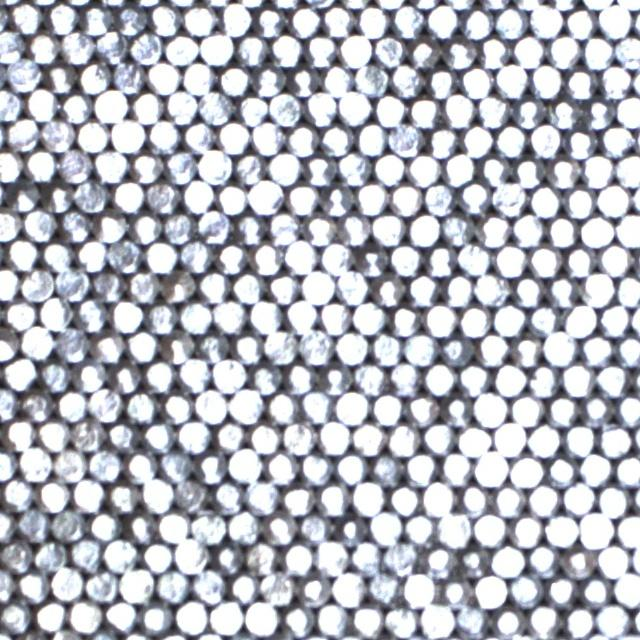tool: (437, 510, 472, 546), (55, 326, 90, 362), (212, 356, 247, 392), (491, 420, 526, 456), (509, 453, 544, 488), (316, 481, 351, 516), (229, 387, 264, 422), (402, 572, 437, 607), (419, 602, 454, 637), (191, 508, 226, 543), (74, 177, 109, 212), (316, 419, 351, 454), (66, 598, 101, 633), (473, 451, 508, 486), (248, 178, 282, 214), (544, 512, 578, 547), (2, 355, 36, 390), (228, 447, 262, 482), (456, 422, 490, 457), (180, 178, 215, 212), (280, 482, 315, 516), (51, 507, 86, 541), (354, 180, 388, 215), (403, 332, 438, 366), (456, 482, 491, 516), (596, 483, 630, 518), (52, 447, 87, 481), (264, 328, 298, 363), (561, 480, 595, 515), (0, 476, 35, 510), (109, 297, 143, 332), (491, 482, 525, 517), (174, 478, 209, 512), (174, 598, 208, 633), (164, 148, 198, 183), (492, 242, 526, 277), (420, 481, 454, 516), (36, 477, 70, 512), (439, 332, 474, 366), (353, 120, 388, 154), (597, 2, 631, 37), (140, 476, 174, 511), (198, 149, 232, 184), (457, 180, 491, 215), (110, 117, 144, 152), (92, 148, 127, 182), (24, 86, 59, 120), (244, 478, 278, 513), (335, 389, 369, 424), (144, 179, 178, 214), (161, 268, 195, 303), (162, 329, 196, 364), (352, 359, 386, 394), (578, 512, 612, 547), (299, 329, 333, 364), (472, 391, 507, 425), (526, 422, 560, 457), (17, 446, 52, 480), (384, 540, 418, 575), (526, 362, 560, 397), (20, 324, 54, 359), (472, 572, 507, 606), (73, 296, 107, 331), (177, 356, 210, 392), (88, 386, 122, 420), (595, 362, 629, 396), (458, 303, 492, 337), (493, 362, 527, 396), (492, 180, 526, 214), (140, 538, 174, 572), (267, 150, 301, 184), (211, 480, 245, 514), (130, 148, 164, 182), (193, 388, 227, 422), (268, 32, 302, 66), (561, 362, 595, 396), (472, 512, 506, 546), (406, 152, 440, 186), (370, 211, 404, 245), (354, 4, 388, 38), (493, 302, 527, 336), (111, 178, 145, 212), (388, 181, 422, 215), (595, 602, 629, 636), (338, 32, 372, 66), (88, 447, 122, 481), (352, 300, 386, 334), (563, 302, 597, 336), (384, 602, 418, 636), (543, 330, 577, 364), (267, 210, 301, 244), (2, 296, 36, 330), (352, 480, 386, 514), (284, 298, 318, 332), (227, 509, 261, 543), (544, 573, 578, 607), (209, 599, 243, 633), (331, 571, 365, 605), (284, 182, 318, 216), (38, 295, 72, 329), (216, 119, 250, 153), (334, 330, 368, 364), (77, 59, 111, 93), (334, 450, 368, 484), (26, 30, 60, 64), (441, 271, 475, 305), (315, 600, 349, 634), (33, 538, 67, 572), (139, 599, 173, 633), (75, 118, 109, 152), (456, 361, 490, 395), (302, 153, 336, 187), (386, 422, 420, 456), (406, 211, 440, 245), (319, 121, 353, 155), (244, 540, 278, 574), (509, 572, 543, 606), (546, 97, 580, 131), (263, 510, 297, 544), (50, 566, 84, 600), (596, 422, 630, 456), (16, 506, 50, 540), (128, 209, 162, 243), (264, 449, 298, 483), (388, 122, 422, 156), (40, 118, 74, 152), (108, 238, 142, 272), (545, 453, 579, 487), (281, 419, 315, 453), (509, 512, 543, 546), (181, 60, 215, 94), (244, 600, 278, 634), (526, 605, 560, 639), (164, 89, 198, 123), (422, 182, 456, 216), (146, 60, 180, 94), (6, 116, 40, 150), (126, 268, 160, 302), (350, 602, 384, 636), (38, 357, 72, 391), (456, 602, 490, 636), (199, 30, 233, 64), (579, 213, 613, 247), (197, 208, 231, 242), (194, 449, 228, 483), (71, 478, 105, 512), (91, 268, 125, 302), (367, 570, 401, 604), (597, 242, 631, 276), (529, 62, 563, 96), (372, 273, 406, 307), (192, 568, 226, 602), (120, 568, 154, 602), (298, 510, 332, 544), (124, 388, 158, 422), (302, 211, 336, 245), (408, 34, 442, 68), (560, 545, 594, 579), (474, 272, 508, 306), (425, 2, 459, 36), (372, 92, 406, 126), (74, 358, 108, 392), (174, 538, 208, 572), (457, 241, 491, 275), (129, 89, 163, 123), (349, 540, 383, 574), (156, 568, 190, 602), (476, 213, 510, 247), (246, 420, 280, 454), (455, 544, 489, 578), (526, 543, 560, 577), (249, 360, 283, 394), (103, 598, 138, 631), (216, 180, 249, 215), (580, 332, 613, 367), (218, 1, 251, 36), (92, 329, 125, 364), (336, 269, 369, 304), (440, 574, 473, 609), (490, 544, 525, 577), (20, 386, 53, 421), (526, 482, 559, 517), (597, 182, 630, 216), (61, 30, 94, 64), (315, 540, 348, 574), (338, 211, 371, 245), (112, 59, 146, 92), (391, 2, 424, 36), (442, 152, 475, 186), (318, 299, 351, 333), (441, 211, 474, 245), (494, 123, 527, 157), (163, 209, 196, 243), (407, 94, 440, 128), (389, 360, 422, 394), (103, 538, 137, 571), (563, 604, 596, 638), (266, 270, 299, 304), (281, 603, 315, 636), (369, 509, 402, 543), (182, 2, 216, 35), (87, 508, 120, 542), (157, 509, 190, 543), (58, 148, 91, 182), (130, 31, 164, 64), (337, 151, 370, 185), (5, 237, 39, 270), (8, 57, 42, 90), (512, 34, 546, 67), (59, 209, 93, 242), (40, 238, 74, 271), (598, 303, 631, 337), (286, 122, 319, 156), (233, 151, 266, 185), (213, 298, 246, 332), (509, 333, 542, 367), (442, 92, 475, 126), (126, 328, 159, 362), (581, 34, 614, 68), (580, 272, 613, 306), (494, 63, 528, 96), (301, 269, 334, 303), (493, 605, 526, 639), (596, 543, 630, 576), (579, 452, 612, 486), (182, 119, 216, 152), (355, 244, 389, 277), (269, 91, 302, 125), (372, 33, 406, 66), (75, 237, 108, 271), (562, 423, 596, 456), (79, 3, 113, 36), (564, 126, 597, 160), (352, 420, 385, 454), (144, 300, 178, 333), (529, 123, 562, 157), (546, 273, 579, 307), (95, 28, 128, 62), (355, 61, 388, 95), (512, 94, 545, 128), (321, 4, 354, 38), (177, 418, 210, 452), (281, 540, 314, 574), (303, 91, 336, 125), (320, 183, 354, 216), (160, 448, 193, 482), (421, 421, 455, 454), (599, 122, 632, 156), (511, 213, 545, 246), (423, 302, 456, 336), (180, 238, 213, 272), (443, 36, 477, 69), (303, 32, 336, 66), (372, 151, 405, 185), (403, 511, 436, 545), (297, 572, 330, 606), (299, 388, 332, 422), (232, 212, 266, 245), (509, 392, 543, 425), (261, 570, 294, 604), (579, 392, 612, 426), (476, 332, 509, 366), (21, 266, 54, 300), (337, 89, 370, 123), (213, 418, 246, 452), (196, 331, 230, 364), (124, 450, 158, 483), (55, 266, 89, 299), (284, 238, 317, 272), (22, 207, 56, 240), (248, 300, 282, 333), (146, 119, 180, 152), (299, 451, 332, 485), (105, 418, 139, 451), (527, 303, 560, 337), (334, 512, 368, 545), (439, 394, 472, 428), (288, 3, 320, 38), (165, 31, 198, 64), (460, 123, 493, 156), (581, 154, 614, 187), (179, 299, 212, 332), (107, 480, 140, 513), (547, 33, 580, 66), (494, 5, 527, 38), (404, 451, 437, 484), (231, 270, 264, 303), (422, 361, 455, 394), (406, 272, 439, 305), (563, 185, 596, 218), (10, 0, 43, 33), (564, 6, 597, 39), (370, 452, 403, 485), (252, 5, 285, 38), (460, 6, 493, 39), (284, 361, 317, 394), (529, 4, 562, 37), (251, 120, 284, 153), (55, 386, 88, 419), (144, 239, 177, 272), (110, 360, 143, 393), (319, 240, 352, 273), (3, 417, 36, 450), (371, 391, 404, 424), (391, 63, 424, 96), (8, 180, 41, 213), (115, 3, 148, 36), (16, 569, 49, 602), (563, 244, 596, 277), (86, 568, 119, 601), (545, 393, 578, 426), (94, 210, 127, 243), (142, 418, 175, 451), (598, 64, 631, 97), (460, 64, 493, 97), (200, 90, 233, 123), (251, 63, 284, 96), (215, 241, 248, 274), (59, 90, 92, 123), (422, 544, 455, 577), (70, 417, 103, 450), (564, 66, 597, 99), (425, 125, 458, 158), (266, 389, 298, 423), (232, 331, 264, 365), (236, 32, 268, 66), (440, 450, 472, 484), (370, 332, 402, 366), (217, 63, 251, 95), (144, 358, 176, 392), (34, 598, 66, 632), (70, 536, 102, 570), (548, 155, 580, 189), (0, 537, 32, 571), (406, 392, 438, 426), (422, 244, 456, 276), (149, 2, 181, 36), (476, 94, 510, 126), (478, 34, 510, 68), (388, 483, 420, 516), (160, 390, 193, 422), (546, 214, 578, 247), (512, 274, 544, 307), (512, 156, 545, 188), (528, 244, 561, 276), (94, 88, 126, 121), (24, 147, 56, 180), (45, 61, 77, 94), (528, 184, 561, 216), (582, 96, 614, 129), (236, 92, 268, 125), (124, 511, 156, 544), (37, 418, 70, 450), (45, 1, 77, 34), (43, 181, 75, 214), (212, 542, 245, 574), (197, 270, 230, 302), (228, 570, 260, 603), (320, 362, 353, 394), (580, 574, 612, 607), (250, 240, 282, 273), (425, 65, 457, 98), (0, 598, 31, 632), (286, 65, 320, 96), (389, 304, 421, 336), (321, 62, 353, 94), (478, 154, 510, 186), (389, 242, 421, 274), (613, 571, 640, 606), (614, 332, 640, 367), (614, 452, 640, 486), (615, 152, 640, 186), (615, 34, 640, 68), (615, 274, 640, 308), (615, 513, 640, 547), (0, 28, 25, 62), (615, 93, 640, 127), (615, 212, 640, 246), (615, 392, 640, 426), (0, 87, 23, 120), (0, 148, 22, 182), (0, 208, 21, 242), (0, 386, 20, 420), (0, 327, 20, 361), (0, 266, 20, 300), (0, 447, 17, 481), (0, 506, 16, 540), (0, 567, 15, 601)
